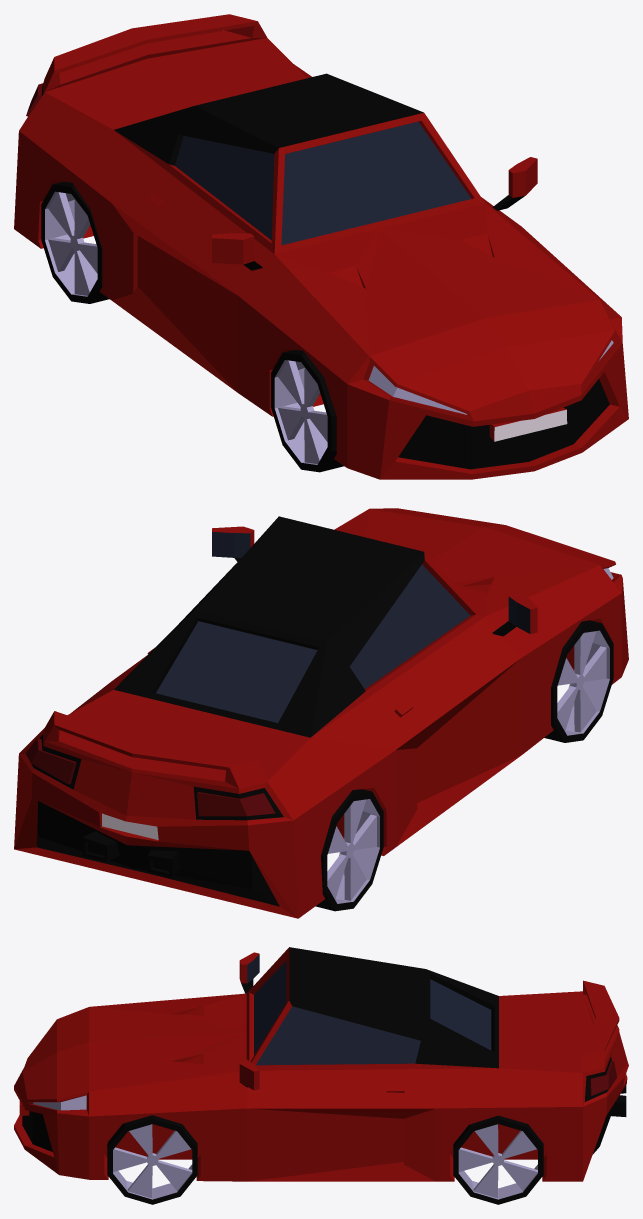
3 renders of one model, top to bottom at view 1: azimuth 30°, elevation 25°; view 2: azimuth 150°, elevation 25°; view 3: azimuth 270°, elevation 25°, orthographic. The views are drawn at different scales.
Visible parts, largest first — view 1: body-1, wheel-front-right, wheel-back-right; view 2: body-1, wheel-front-right, wheel-back-right; view 3: body-1, wheel-front-left, wheel-back-left.
Part boxes in pixels (x1=…): body-1: x1=14, y1=14, x2=628, y2=479; wheel-front-right: x1=271, y1=349, x2=343, y2=472; wheel-back-right: x1=41, y1=181, x2=109, y2=303; body-1: x1=14, y1=508, x2=628, y2=918; wheel-front-right: x1=544, y1=620, x2=613, y2=742; wheel-back-right: x1=315, y1=789, x2=383, y2=911; body-1: x1=14, y1=947, x2=628, y2=1181; wheel-front-left: x1=107, y1=1115, x2=197, y2=1204; wheel-back-left: x1=453, y1=1115, x2=543, y2=1204.
Bounding box in the file's own units: 1.66 × 1.16 × 3.6.
